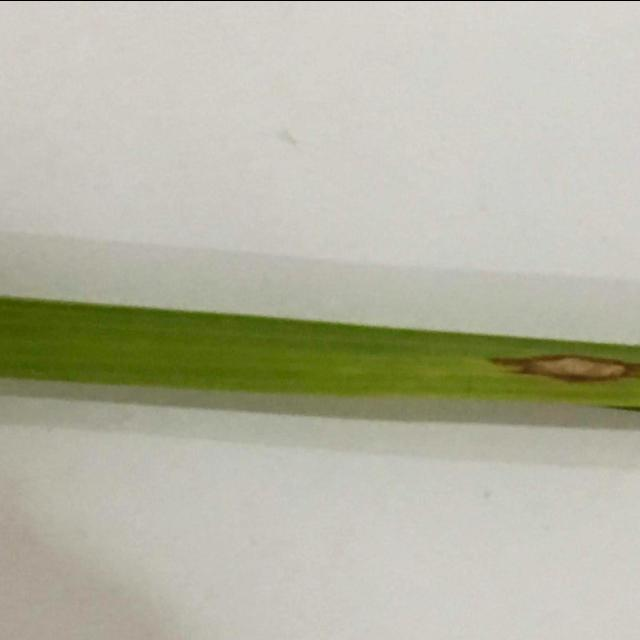Leaf blast: (0, 208, 640, 462)
